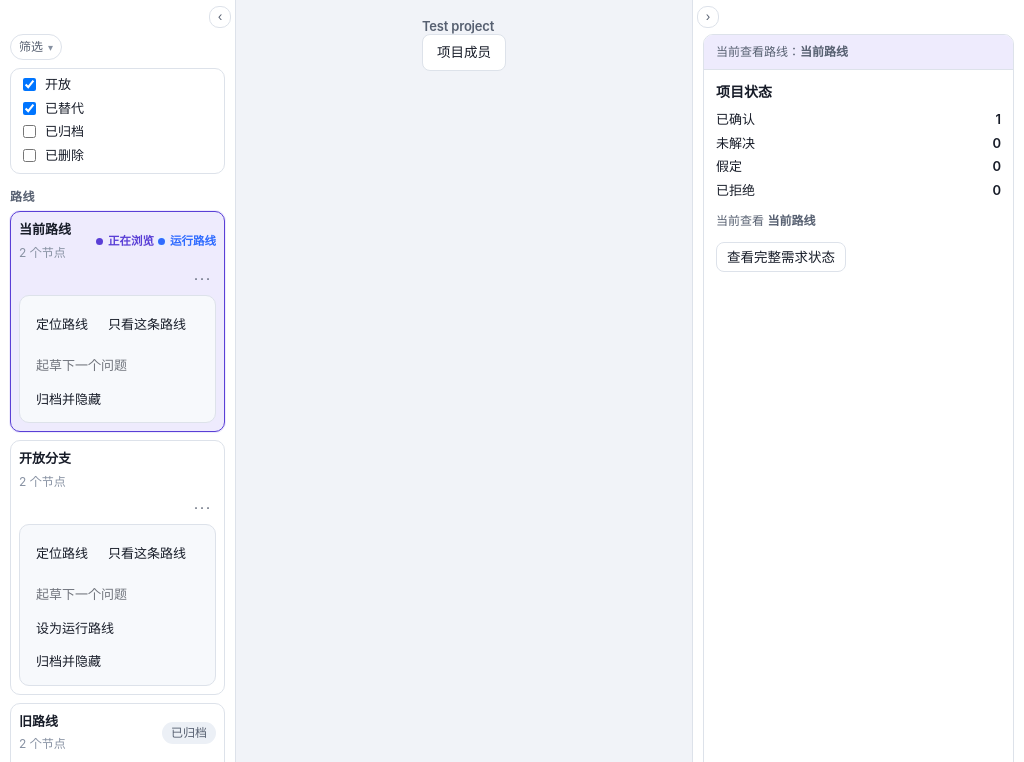
Scenario: WorkspaceView graph shell › shell copy is chinese while backend content stays verbatim
# 派生 claim 文本在二级需求视图中保持原样。
Click the button with test id "open-requirements" at x=781, y=257, box [716, 242, 846, 272]
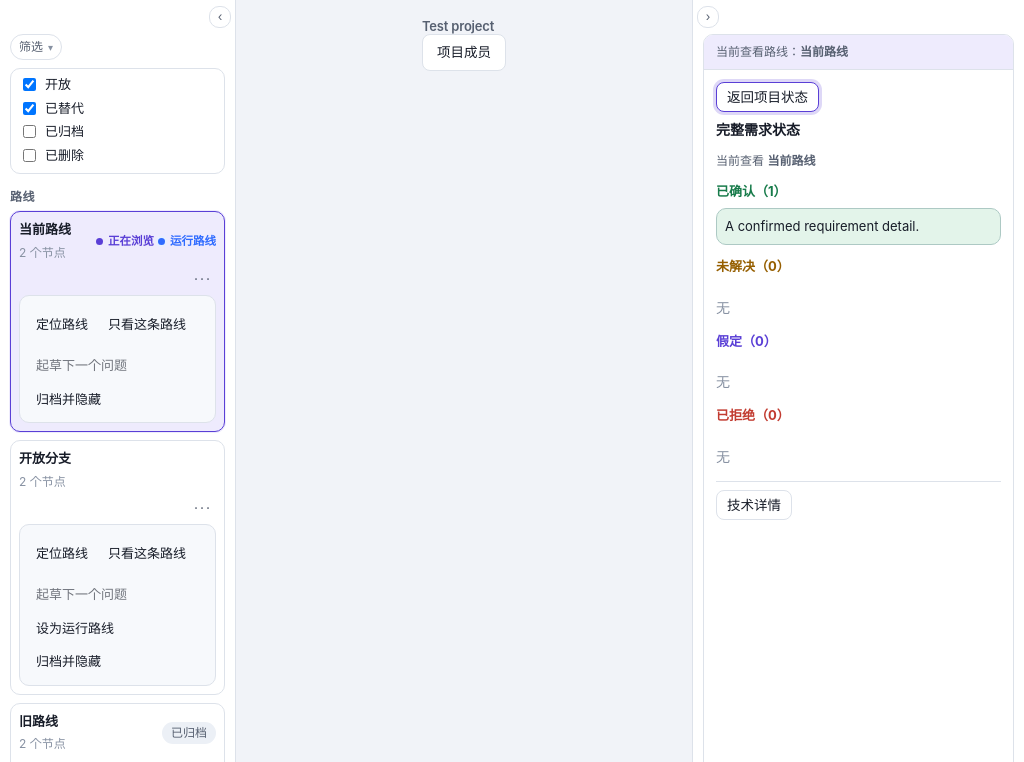
Check: the text "A confirmed requirement detail." is shown, box [725, 218, 919, 234]
